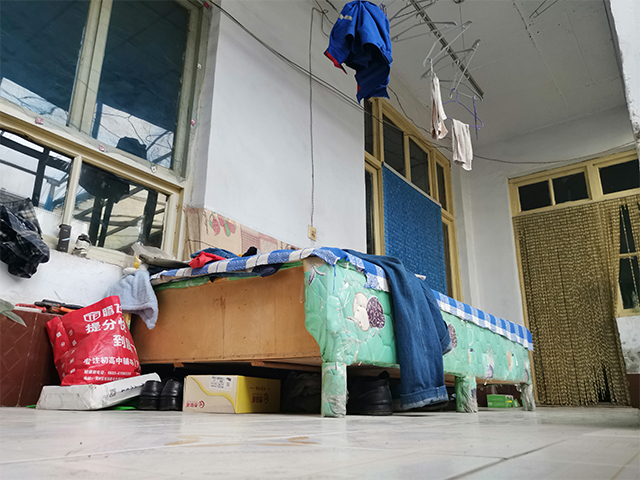bed: (126, 245, 539, 420)
